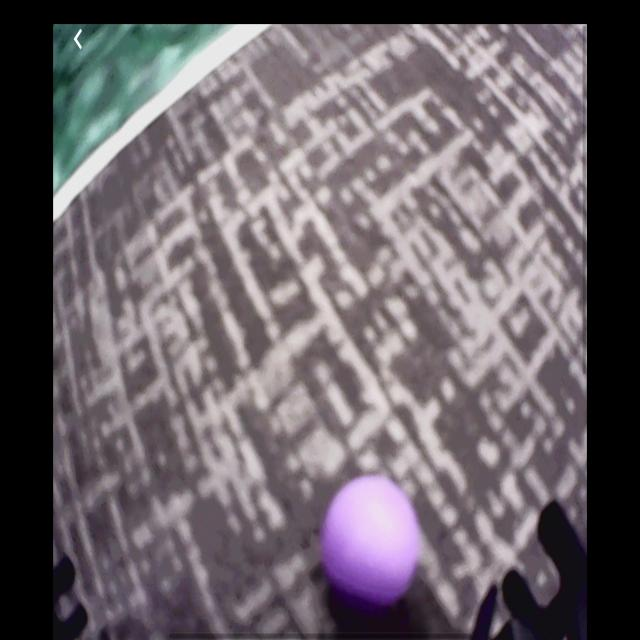ball: (324, 474, 421, 610)
